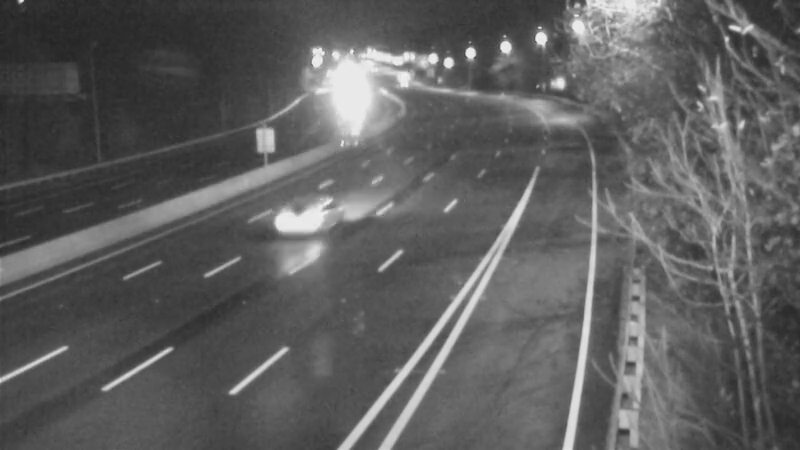vehicle: (263, 172, 343, 252)
